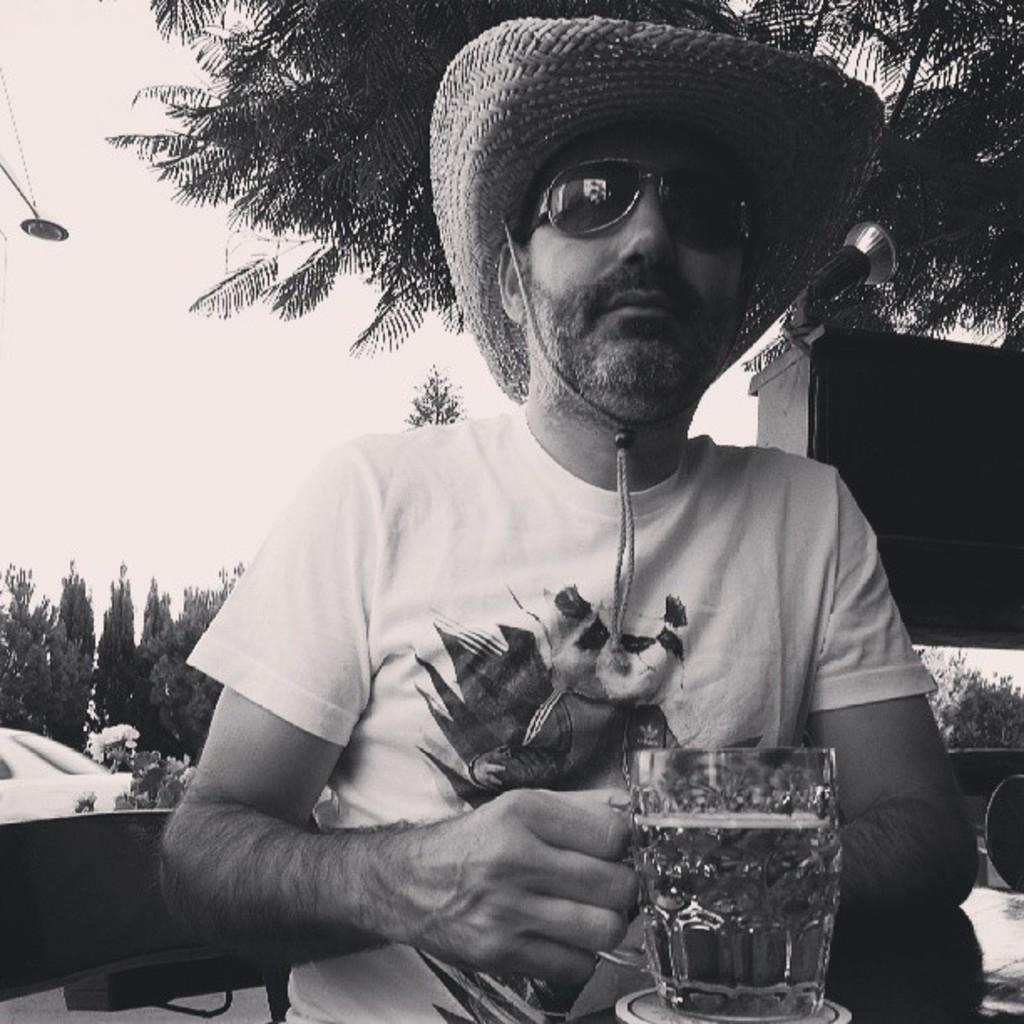Hat: (428, 16, 888, 647)
